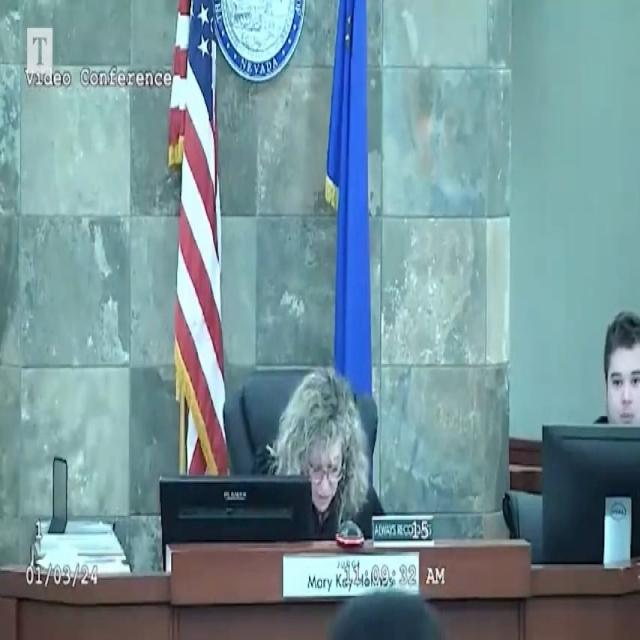non-fight: (252, 354, 371, 542), (589, 305, 640, 424)
